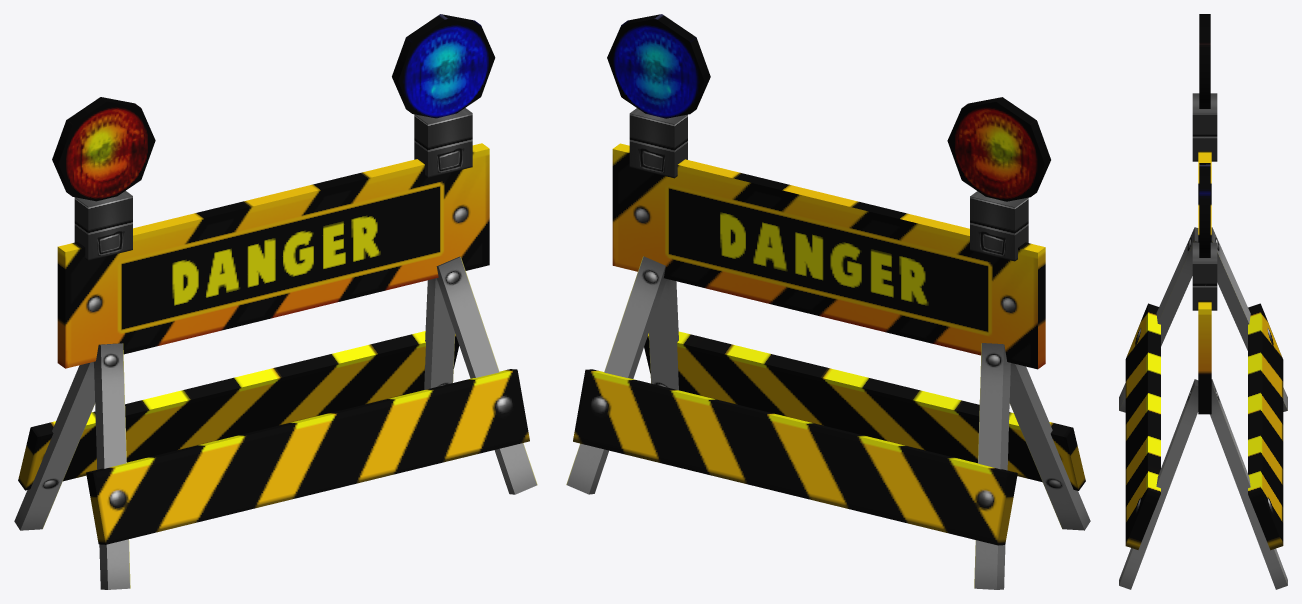
Rendered from obstacle.FBX.
The picture shows the model from 3 angles, left to right: view 1: azimuth 30°, elevation 25°; view 2: azimuth 150°, elevation 25°; view 3: azimuth 270°, elevation 25°; orthographic projection. The views are drawn at different scales.
Visible parts, largest first — view 1: obstacle; view 2: obstacle; view 3: obstacle.
Part boxes in pixels (bbox=[...]): obstacle: bbox=[14, 14, 537, 589]; obstacle: bbox=[566, 14, 1090, 589]; obstacle: bbox=[1119, 14, 1287, 589].
Bounding box in the file's own units: 0.2878 × 0.2855 × 0.1069.
